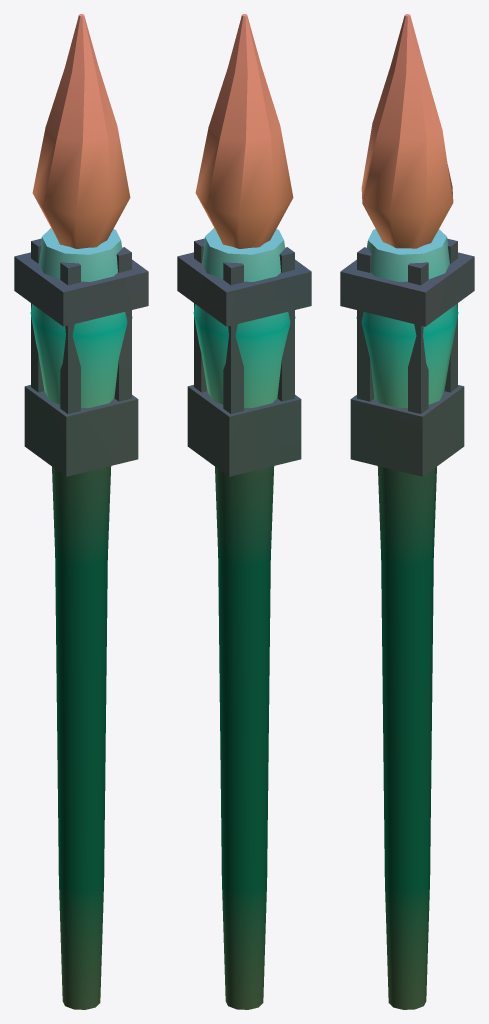
Rendered from torch_held.glb.
3 renders of one model, left to right at view 1: azimuth 30°, elevation 25°; view 2: azimuth 210°, elevation 25°; view 3: azimuth 330°, elevation 25°, orthographic.
Visible parts, largest first — view 1: shaft, collar, flame, head; view 2: shaft, collar, flame, head; view 3: shaft, collar, flame, head.
Part boxes in pixels (x1,y1,x2,y2): shaft: (52,466,111,1009); collar: (14,238,148,476); flame: (32,14,130,248); head: (30,228,132,407); shaft: (215,466,274,1009); collar: (177,238,311,476); flame: (195,14,293,248); head: (193,228,295,407); shaft: (377,466,436,1009); collar: (340,238,474,476); flame: (361,14,453,248); head: (356,229,458,407).
Bounding box in the file's own units: 0.108 × 1.15 × 0.104.
